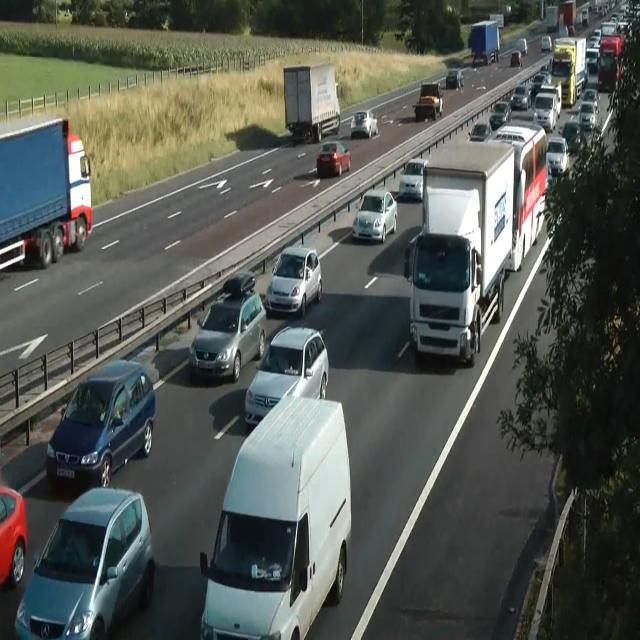bus: (244, 324, 329, 428), (264, 245, 322, 318), (0, 486, 28, 588), (352, 188, 398, 244), (215, 269, 256, 303), (316, 140, 351, 178), (398, 157, 428, 201), (546, 135, 570, 177), (350, 109, 378, 139), (559, 121, 583, 153), (488, 100, 512, 130), (412, 97, 436, 121), (509, 84, 531, 110), (577, 101, 595, 130), (582, 88, 600, 114), (468, 122, 491, 141), (530, 73, 548, 97), (446, 68, 464, 89), (585, 46, 599, 72), (489, 113, 507, 132), (544, 160, 554, 193), (516, 37, 528, 55), (510, 50, 522, 66), (540, 58, 552, 74), (405, 36, 418, 49), (541, 36, 551, 51)
jeep: (199, 395, 351, 638), (14, 486, 155, 638), (45, 358, 155, 488), (188, 278, 266, 382)
minibus: (404, 140, 514, 364), (0, 117, 92, 270), (482, 121, 548, 272), (283, 61, 341, 143), (548, 36, 588, 108), (597, 34, 625, 92), (468, 20, 499, 66), (413, 82, 443, 121), (488, 12, 504, 28)
